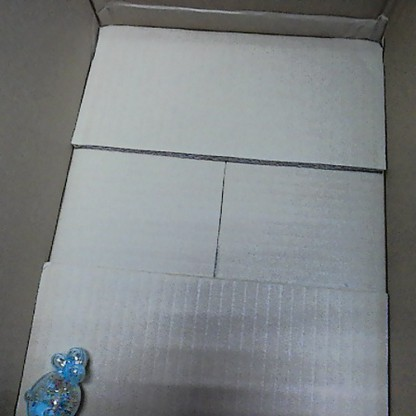bluefish: (22, 347, 90, 414)
